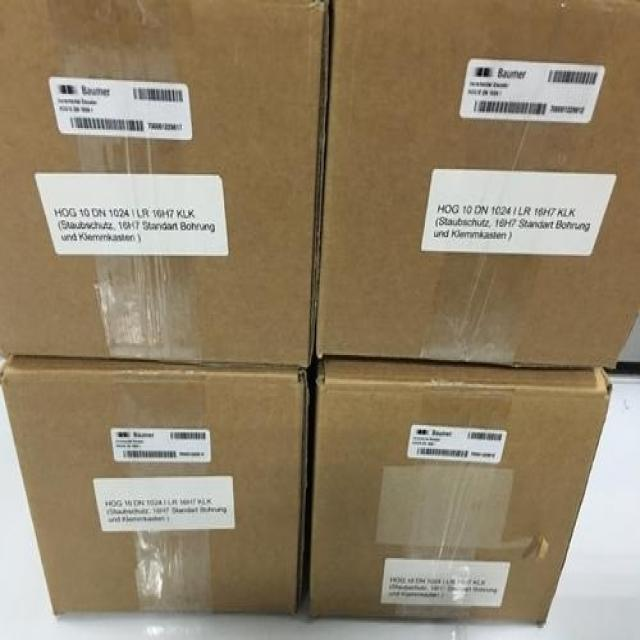box: (307, 362, 614, 626), (0, 360, 307, 618)
